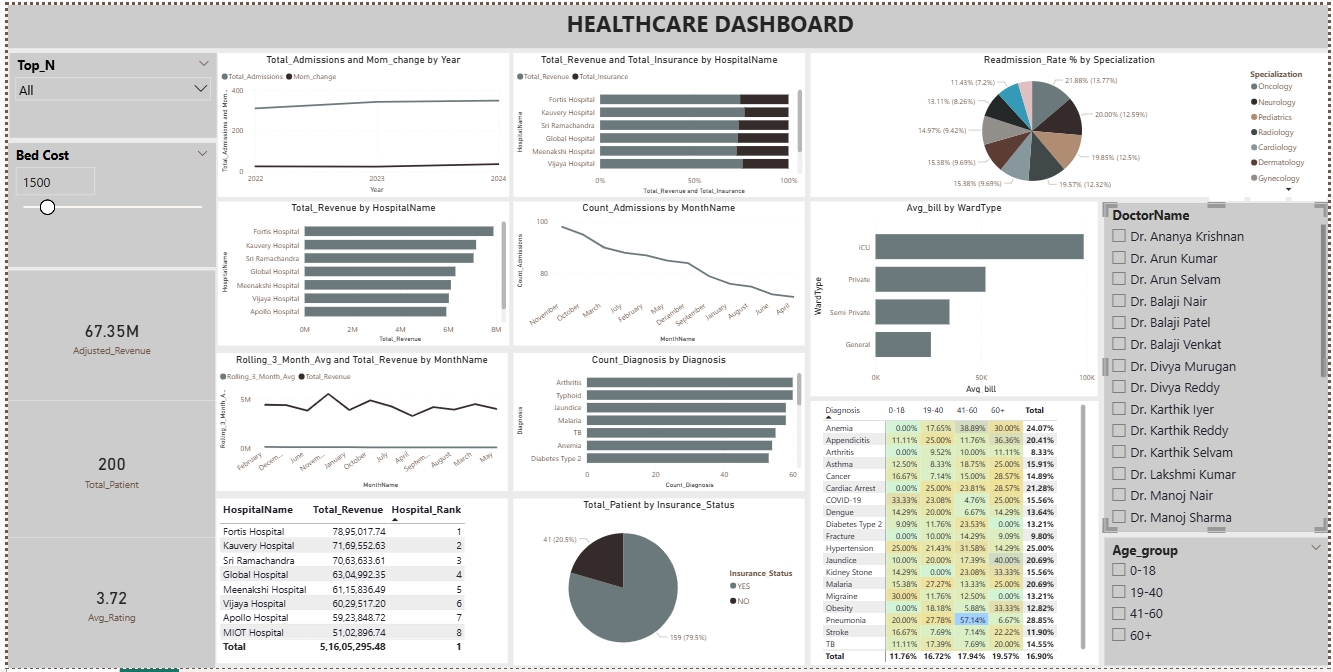

Layout of this report page (visuals, bound fields, positions):
{"tool":"powerbi","page":{"name":"Page 1","canvas":[2200,1105],"ordinal":0},"visuals":[{"type":"barChart","fields":{"Category":["Dim_Hospital.HospitalName"],"Y":["Fact_Admissions.Total_Revenue"]},"box":[350,326.7,485,240],"z":0},{"type":"lineChart","fields":{"Y":["Fact_Admissions.Total_Admissions"],"Category":["Dim_Date.MonthName"]},"box":[843.3,326.7,485,240],"z":1000},{"type":"barChart","fields":{"Category":["Fact_Admissions.Diagnosis"],"Y":["Fact_Admissions.Count_Diagnosis"]},"box":[843.3,580,485,230],"z":2000},{"type":"pieChart","fields":{"Y":["Fact_Admissions.Total_Patient"],"Category":["Fact_Admissions.Insurance_Status"]},"box":[843.3,822.2,485,277.8],"z":3000},{"type":"barChart","fields":{"Category":["Fact_Admissions.WardType"],"Y":["Fact_Admissions.Avg_bill"]},"box":[1336.7,326.7,478.9,324.4],"z":4000},{"type":"slicer","fields":{"Values":["Dim_Doctor.DoctorName"]},"box":[1826.7,330,373.3,546.7],"z":5000},{"type":"card","fields":{"Values":["Fact_Admissions.Avg_Rating"]},"box":[0,887.5,345,217.5],"z":6000},{"type":"lineChart","fields":{"Category":["Dim_Date.Date.Variation.Date Hierarchy.Year","Dim_Date.Date.Variation.Date Hierarchy.Quarter","Dim_Date.Date.Variation.Date Hierarchy.Month","Dim_Date.Date.Variation.Date Hierarchy.Day"],"Y":["Fact_Admissions.Total_Admissions","Fact_Admissions.Mom_change"]},"box":[350,80,485,240],"z":7000},{"type":"pieChart","fields":{"Category":["Dim_Doctor.Specialization"],"Y":["Fact_Admissions.Readmission_Rate %"]},"box":[1336.7,80,863,240],"z":8000},{"type":"slicer","fields":{"Values":["Dim_Patient.Age_group"]},"box":[1826.7,886.7,373.3,213.3],"z":9000},{"type":"hundredPercentStackedBarChart","fields":{"Category":["Dim_Hospital.HospitalName"],"Y":["Fact_Admissions.Total_Revenue","Fact_Admissions.Total_Insurance"]},"box":[843.3,80,486,240],"z":10000},{"type":"lineChart","fields":{"Category":["Dim_Date.MonthName"],"Y":["Fact_Admissions.Rolling_3_Month_Avg","Fact_Admissions.Total_Revenue"]},"box":[348.3,580,485,230],"z":11000},{"type":"slicer","fields":{"Values":["Bed Cost.Bed Cost"]},"box":[0,230,345,206],"z":12000},{"type":"card","fields":{"Values":["Fact_Admissions.Adjusted_Revenue"]},"box":[0,443.3,345,216.7],"z":13000},{"type":"tableEx","fields":{"Values":["Dim_Hospital.HospitalName","Fact_Admissions.Total_Revenue","Fact_Admissions.Hospital_Rank"]},"box":[347.8,822.2,485,274.4],"z":14000},{"type":"pivotTable","fields":{"Rows":["Fact_Admissions.Diagnosis"],"Columns":["Dim_Patient.Age_group"],"Values":["Fact_Admissions.Readmission_Rate %"]},"box":[1336.7,660,478.9,440],"z":15000},{"type":"card","fields":{"Values":["Fact_Admissions.Total_Patient"]},"box":[0,660,345,226.7],"z":16000},{"type":"slicer","fields":{"Values":["TopN.Value"]},"box":[3.3,80,345,141],"z":17000},{"type":"textbox","box":[0,0,2300,72],"z":18000}]}

Visuals, with their boxes in screenshot pixels (x1, y1, x2, y2), scaled from the page's 2200x1105 canvas onto the 1333x672 screenshot:
barChart - Dim_Hospital.HospitalName x Fact_Admissions.Total_Revenue: locate(212, 199, 506, 345)
lineChart - Fact_Admissions.Total_Admissions x Dim_Date.MonthName: locate(511, 199, 805, 345)
barChart - Fact_Admissions.Diagnosis x Fact_Admissions.Count_Diagnosis: locate(511, 353, 805, 493)
pieChart - Fact_Admissions.Total_Patient x Fact_Admissions.Insurance_Status: locate(511, 500, 805, 669)
barChart - Fact_Admissions.WardType x Fact_Admissions.Avg_bill: locate(810, 199, 1100, 396)
slicer - Dim_Doctor.DoctorName: locate(1107, 201, 1332, 533)
card - Fact_Admissions.Avg_Rating: locate(0, 540, 209, 671)
lineChart - Dim_Date.Date.Variation.Date Hierarchy.Year x Dim_Date.Date.Variation.Date Hierarchy.Quarter: locate(212, 49, 506, 195)
pieChart - Dim_Doctor.Specialization x Fact_Admissions.Readmission_Rate %: locate(810, 49, 1332, 195)
slicer - Dim_Patient.Age_group: locate(1107, 539, 1332, 669)
hundredPercentStackedBarChart - Dim_Hospital.HospitalName x Fact_Admissions.Total_Revenue: locate(511, 49, 805, 195)
lineChart - Dim_Date.MonthName x Fact_Admissions.Rolling_3_Month_Avg: locate(211, 353, 505, 493)
slicer - Bed Cost.Bed Cost: locate(0, 140, 209, 265)
card - Fact_Admissions.Adjusted_Revenue: locate(0, 270, 209, 401)
tableEx - Dim_Hospital.HospitalName x Fact_Admissions.Total_Revenue: locate(211, 500, 505, 667)
pivotTable - Fact_Admissions.Diagnosis x Dim_Patient.Age_group: locate(810, 401, 1100, 669)
card - Fact_Admissions.Total_Patient: locate(0, 401, 209, 539)
slicer - TopN.Value: locate(2, 49, 211, 134)
textbox: locate(0, 0, 1332, 44)
